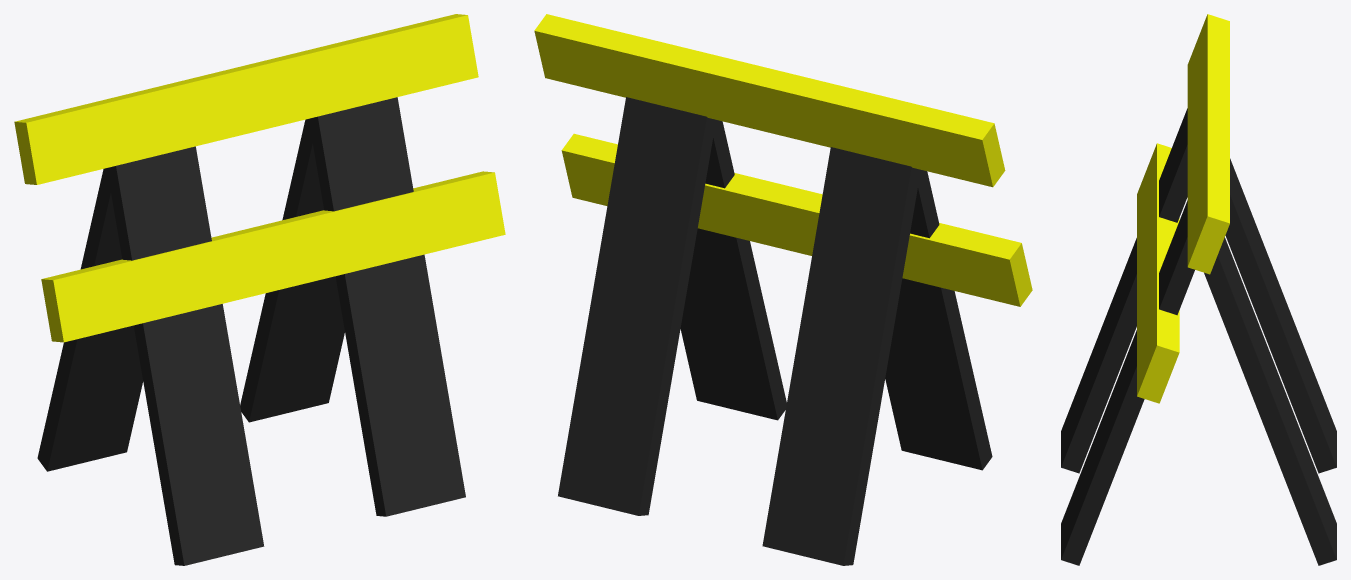
The model's file is objectBarricade1.fbx.
The picture shows the model from 3 angles, left to right: view 1: azimuth 30°, elevation 25°; view 2: azimuth 150°, elevation 25°; view 3: azimuth 270°, elevation 25°; orthographic projection. The views are drawn at different scales.
Visible parts, largest first — view 1: Box003; view 2: Box003; view 3: Box003.
Part boxes in pixels (x1=…): Box003: x1=14, y1=14, x2=505, y2=565; Box003: x1=534, y1=14, x2=1032, y2=565; Box003: x1=1061, y1=14, x2=1336, y2=565.
Size of the model in its own units: 40 by 35.63 by 23.06.
